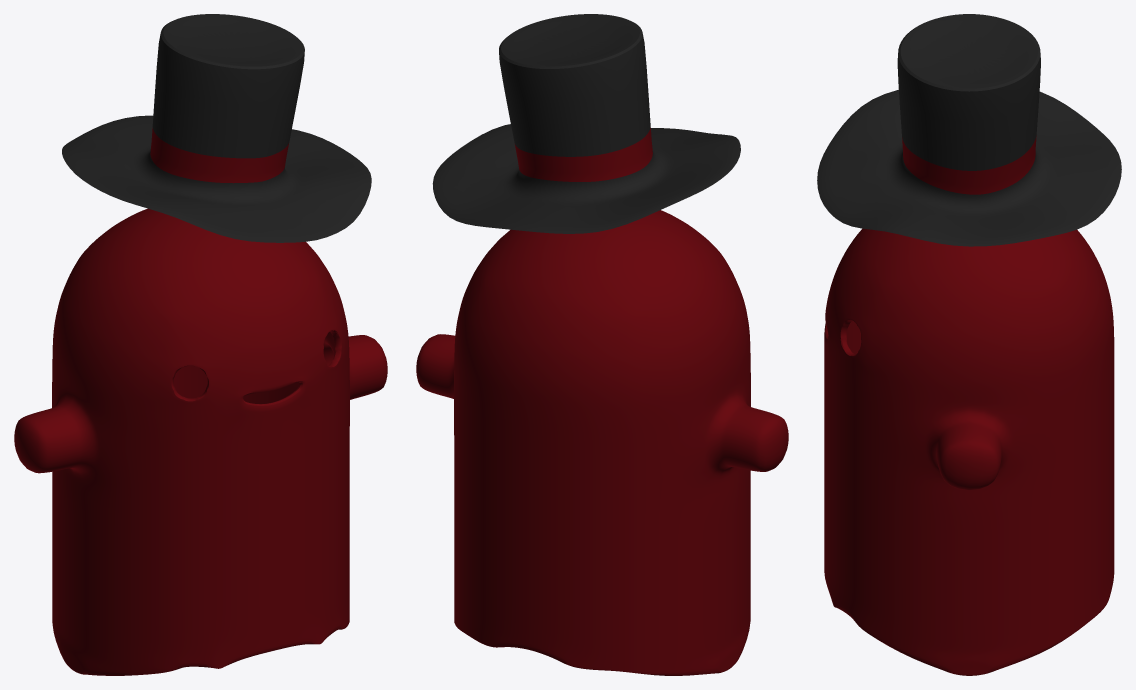
The model's file is CuteGhost3.fbx.
3 views of the same model, side by side, from view 1: azimuth 30°, elevation 25°; view 2: azimuth 150°, elevation 25°; view 3: azimuth 270°, elevation 25° (orthographic). The views are drawn at different scales.
Parts seen in each view (by area): view 1: Ghost; view 2: Ghost; view 3: Ghost.
Part boxes in pixels (x1=…): Ghost: x1=14, y1=14, x2=387, y2=675; Ghost: x1=416, y1=14, x2=788, y2=675; Ghost: x1=817, y1=14, x2=1121, y2=675.
Size of the model in its own units: 16920 by 10604 by 7954.
